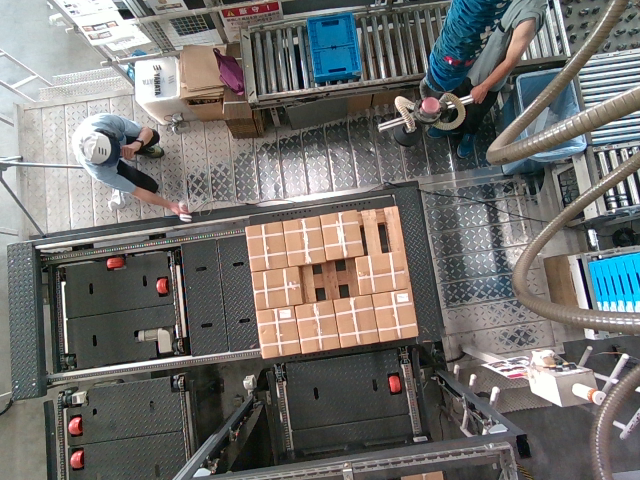box: (350, 252, 411, 294), (252, 267, 304, 305), (246, 220, 285, 270), (282, 217, 321, 267), (319, 212, 358, 262), (258, 307, 297, 357), (299, 300, 338, 350), (337, 295, 376, 345), (374, 290, 413, 340)
